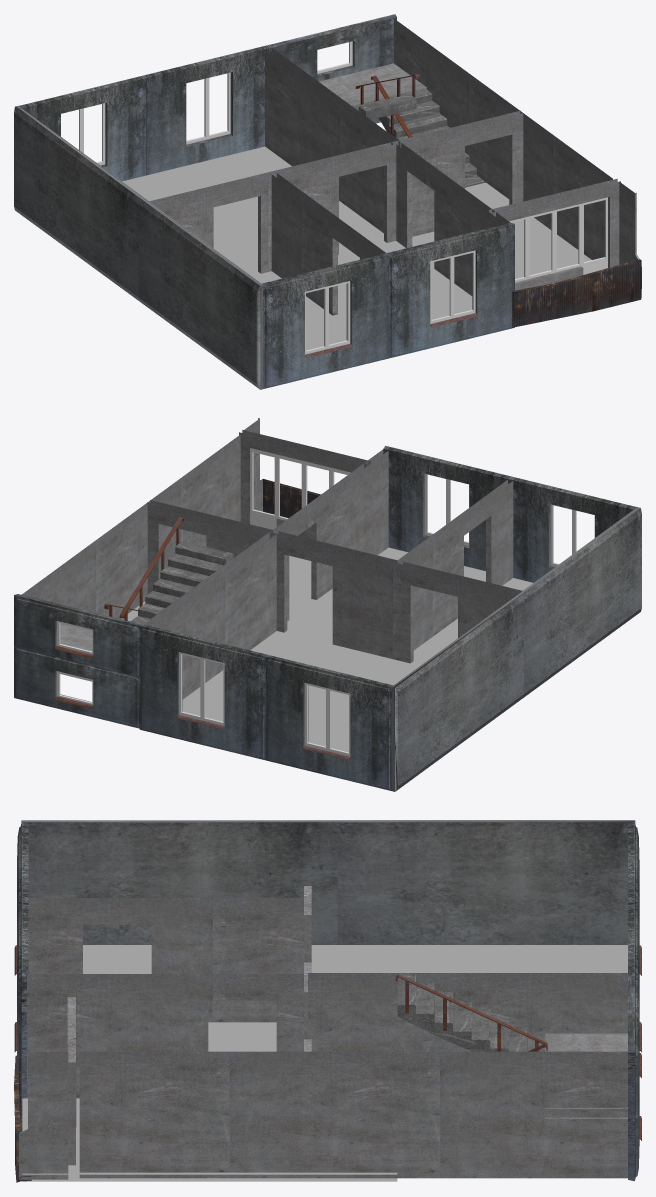
The model's file is floor2-s0.gltf.
3 views of the same model, one above another, from view 1: azimuth 30°, elevation 25°; view 2: azimuth 150°, elevation 25°; view 3: azimuth 270°, elevation 25° (orthographic). The views are drawn at different scales.
Visible parts, largest first — view 1: Plane130.002, Box390.002, Box402.002, Plane128.002, Box365.002, Box417.002, Box416.002, Plane129.002, Plane152.005, Plane152.006, Plane152.003, Box418.002; view 2: Plane130.002, Box390.002, Box402.002, Plane128.002, Box417.002, Plane129.002, Box365.002, Plane152.003, Plane152.004, Box418.002, Box410.002, Box416.002 (+2 smaller); view 3: Plane130.002, Box402.002, Plane128.002, Box390.002, Box417.002, Box416.002, Box418.002, Box365.002.
Part boxes in pixels (box(x1,y1,x2,y2)): Plane130.002: box(149, 18, 639, 315); Box390.002: box(19, 14, 514, 388); Box402.002: box(14, 105, 263, 389); Plane128.002: box(122, 146, 591, 350); Box365.002: box(512, 259, 641, 327); Box417.002: box(352, 88, 484, 187); Box416.002: box(319, 63, 426, 105); Plane129.002: box(509, 197, 607, 282); Plane152.005: box(430, 250, 475, 323); Plane152.006: box(305, 281, 350, 354); Plane152.003: box(186, 72, 230, 144); Box418.002: box(355, 74, 419, 137); Plane130.002: box(21, 418, 522, 699); Box390.002: box(14, 445, 636, 790); Box402.002: box(391, 507, 641, 791); Plane128.002: box(121, 547, 532, 752); Box417.002: box(131, 541, 233, 624); Plane129.002: box(250, 448, 350, 529); Box365.002: box(261, 479, 320, 518); Plane152.003: box(179, 652, 224, 725); Plane152.004: box(304, 682, 350, 756); Box418.002: box(104, 516, 184, 620); Box410.002: box(55, 646, 350, 759); Box416.002: box(60, 623, 92, 651); Plane130.002: box(19, 886, 627, 1179); Box402.002: box(21, 820, 635, 944); Plane128.002: box(22, 945, 627, 1181); Box390.002: box(17, 822, 639, 1181); Box417.002: box(397, 974, 545, 1051); Box416.002: box(545, 1033, 627, 1118); Box418.002: box(396, 974, 547, 1051); Box365.002: box(14, 1055, 31, 1182).
Bounding box in the file's own units: 10.02 × 3.27 × 11.39.
8 materials, 6 textured.
